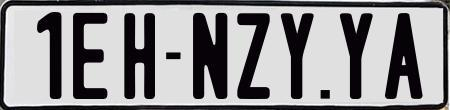1: (36, 11, 65, 101)
A: (382, 12, 426, 98)
E: (71, 10, 111, 99)
H: (121, 12, 152, 99)
N: (190, 10, 229, 96)
Y: (340, 13, 379, 100), (279, 12, 314, 103)
Z: (236, 10, 270, 97)
